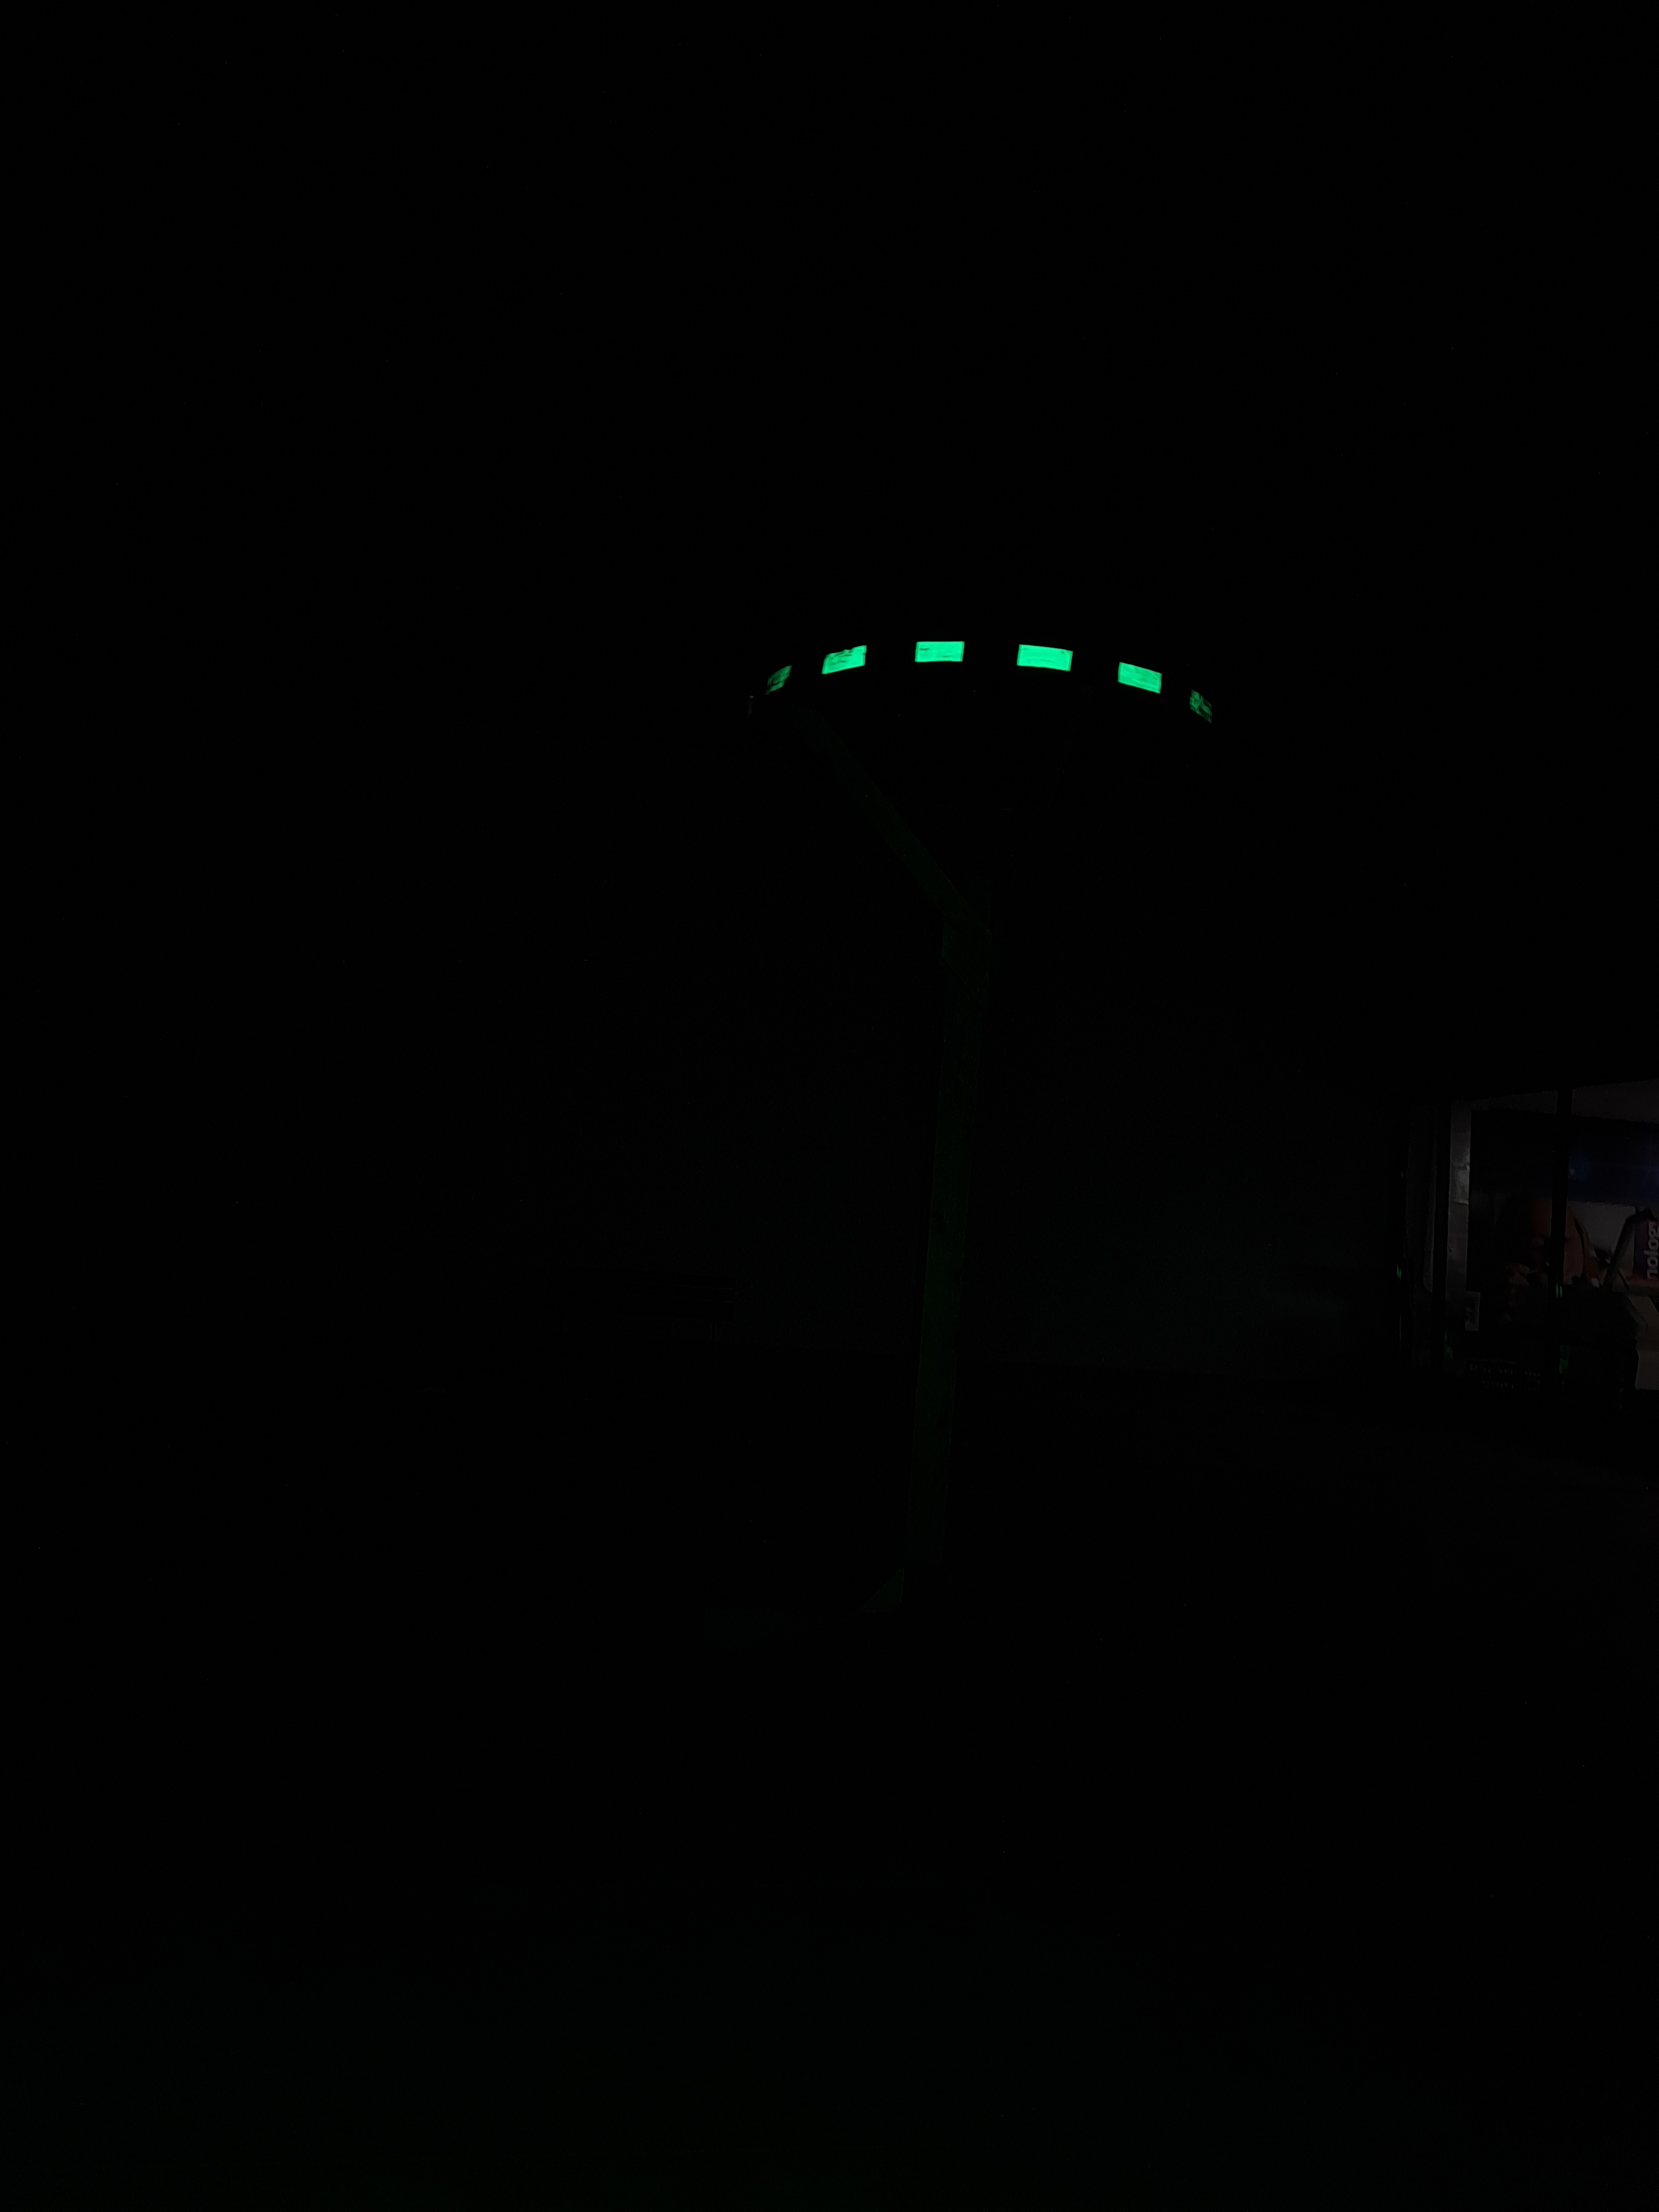hoop: (725, 634, 1236, 749)
